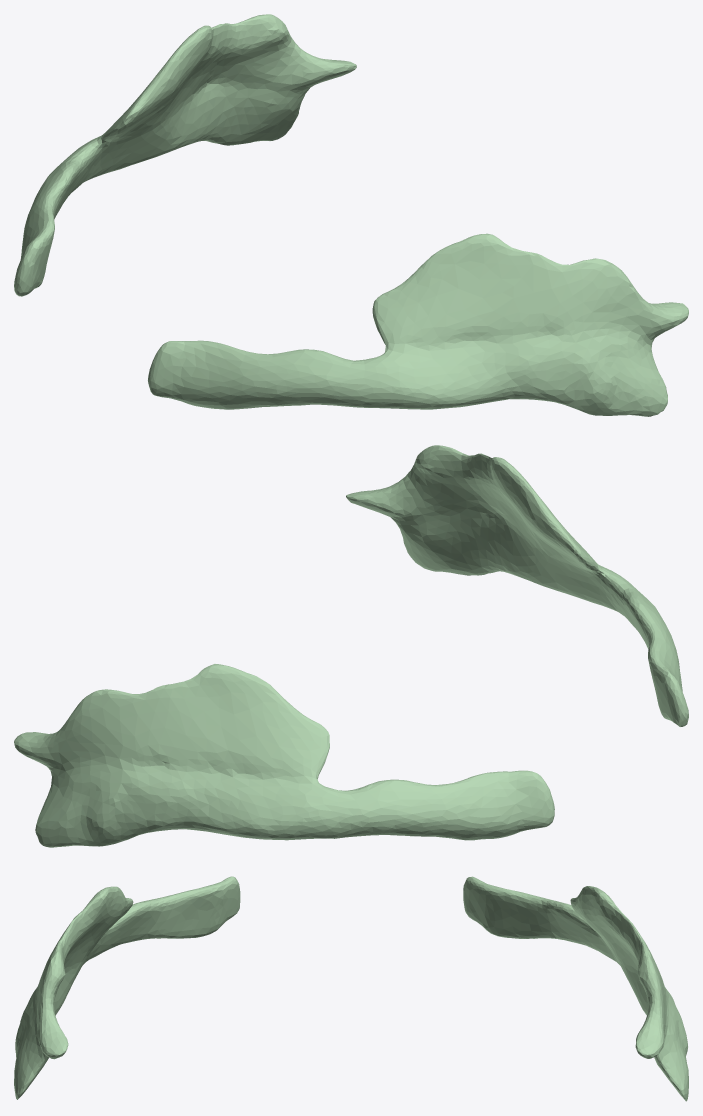
The picture shows the model from 3 angles, top to bottom: view 1: azimuth 30°, elevation 25°; view 2: azimuth 150°, elevation 25°; view 3: azimuth 270°, elevation 25°; orthographic projection. The views are drawn at different scales.
Visible parts, largest first — view 1: 942.obj; view 2: 942.obj; view 3: 942.obj.
Part boxes in pixels (x1,y1,x2,y2): 942.obj: (14, 14, 688, 416); 942.obj: (14, 445, 688, 847); 942.obj: (14, 876, 688, 1101).
Bounding box in the file's own units: 5560 × 2138 × 8365.
